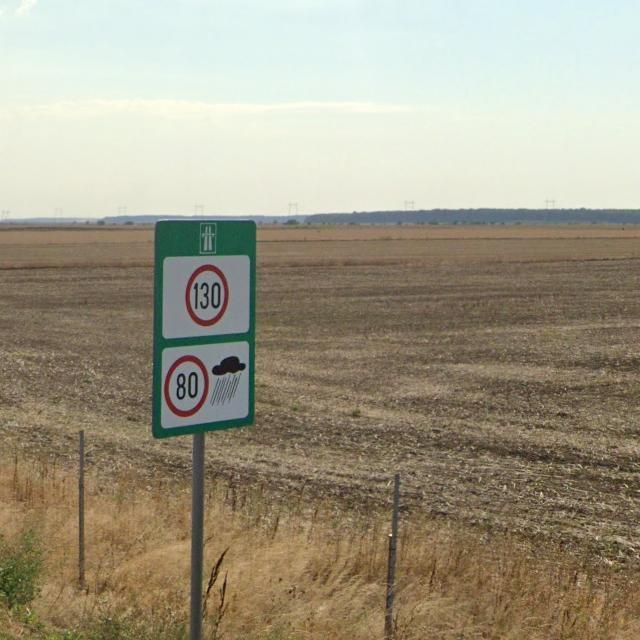forb_speed_over_80: (164, 356, 209, 418)
